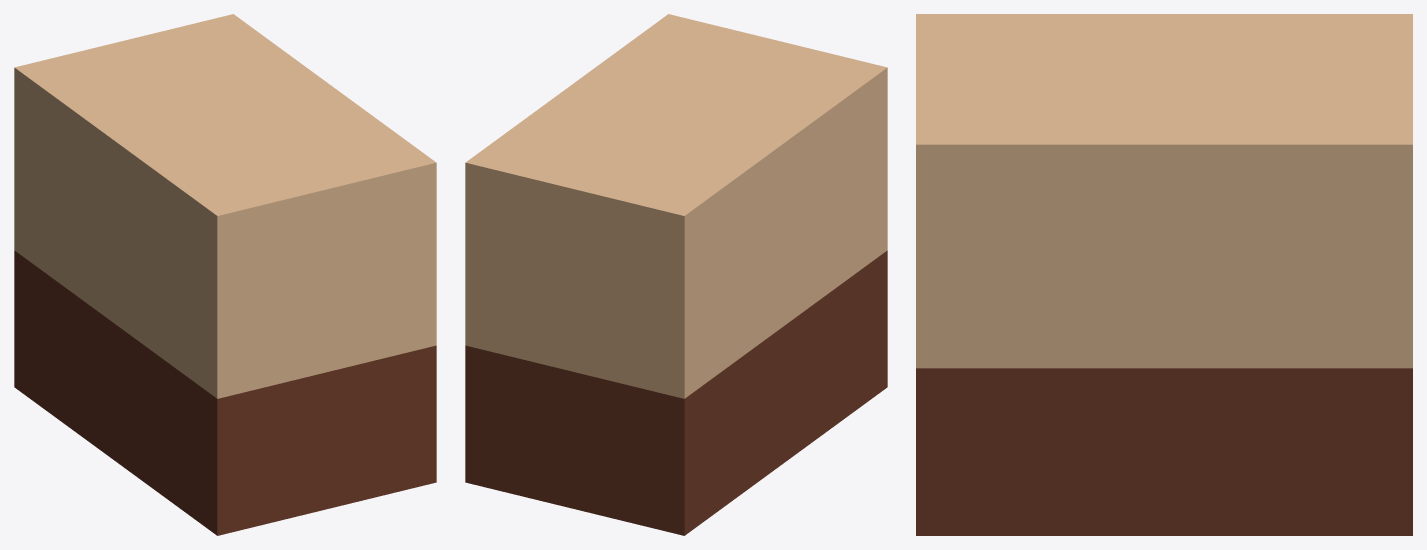
The model's file is mini_cliff.glb.
The picture shows the model from 3 angles, left to right: view 1: azimuth 30°, elevation 25°; view 2: azimuth 150°, elevation 25°; view 3: azimuth 270°, elevation 25°; orthographic projection. The views are drawn at different scales.
Visible parts, largest first — view 1: mesh; view 2: mesh; view 3: mesh.
Boxes of the visible parts, <box> form: mesh: <box>14,14,436,535</box>; mesh: <box>465,14,887,535</box>; mesh: <box>916,14,1412,535</box>.
Bounding box in the file's own units: 5 × 6.98 × 8.03.
